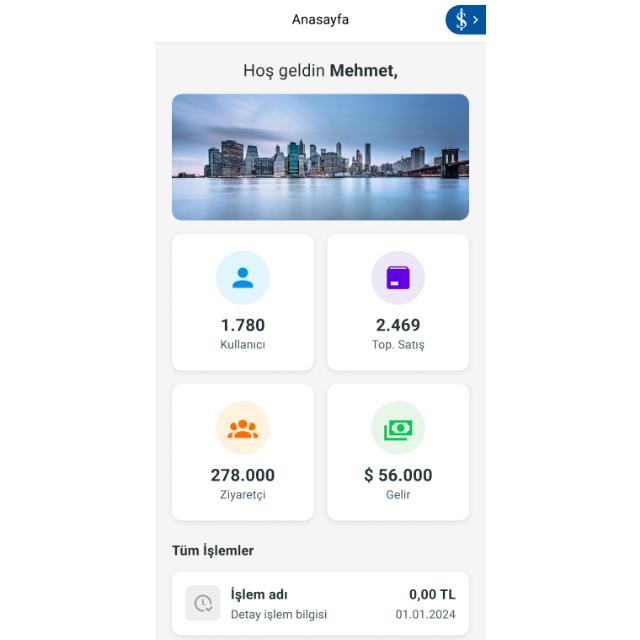QLabel: (238, 61, 324, 81), (231, 608, 327, 622), (328, 63, 398, 81), (169, 543, 253, 557), (288, 11, 349, 27), (364, 468, 432, 482), (210, 468, 274, 482), (229, 587, 287, 601), (371, 338, 424, 352), (396, 608, 454, 620), (218, 488, 266, 502), (220, 318, 264, 332), (407, 589, 455, 601), (375, 318, 419, 330), (218, 338, 266, 349), (384, 488, 410, 499)
VAppBar: (154, 1, 486, 44)
VCard: (170, 570, 468, 638), (325, 232, 469, 370), (170, 234, 312, 370), (326, 384, 468, 520), (170, 386, 312, 522)
VImg: (172, 94, 468, 222), (371, 250, 424, 306), (215, 250, 269, 304), (216, 401, 268, 454), (372, 402, 423, 454), (184, 586, 220, 620), (445, 4, 485, 34)
